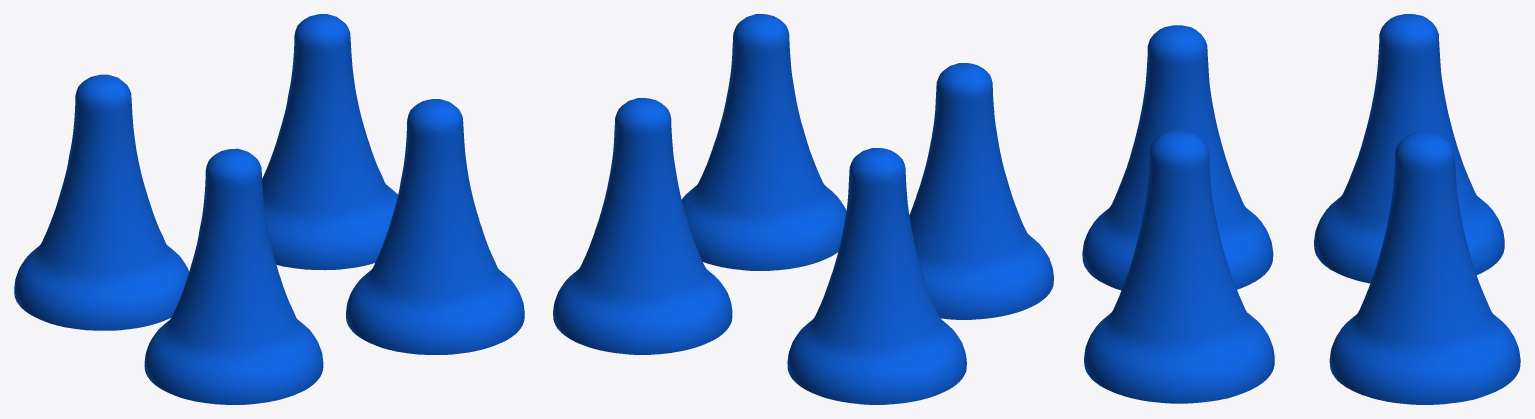
Rendered from Board_Pawn_B.fbx.
3 renders of one model, left to right at view 1: azimuth 30°, elevation 25°; view 2: azimuth 150°, elevation 25°; view 3: azimuth 270°, elevation 25°, orthographic. The views are drawn at different scales.
Visible parts, largest first — view 1: Board_Pawn_B; view 2: Board_Pawn_B; view 3: Board_Pawn_B.
Boxes of the visible parts, bbox=[...] form: Board_Pawn_B: bbox=[14, 14, 524, 404]; Board_Pawn_B: bbox=[553, 14, 1053, 404]; Board_Pawn_B: bbox=[1082, 14, 1520, 404].
Bounding box in the file's own units: 5.55 × 2.98 × 5.17.
